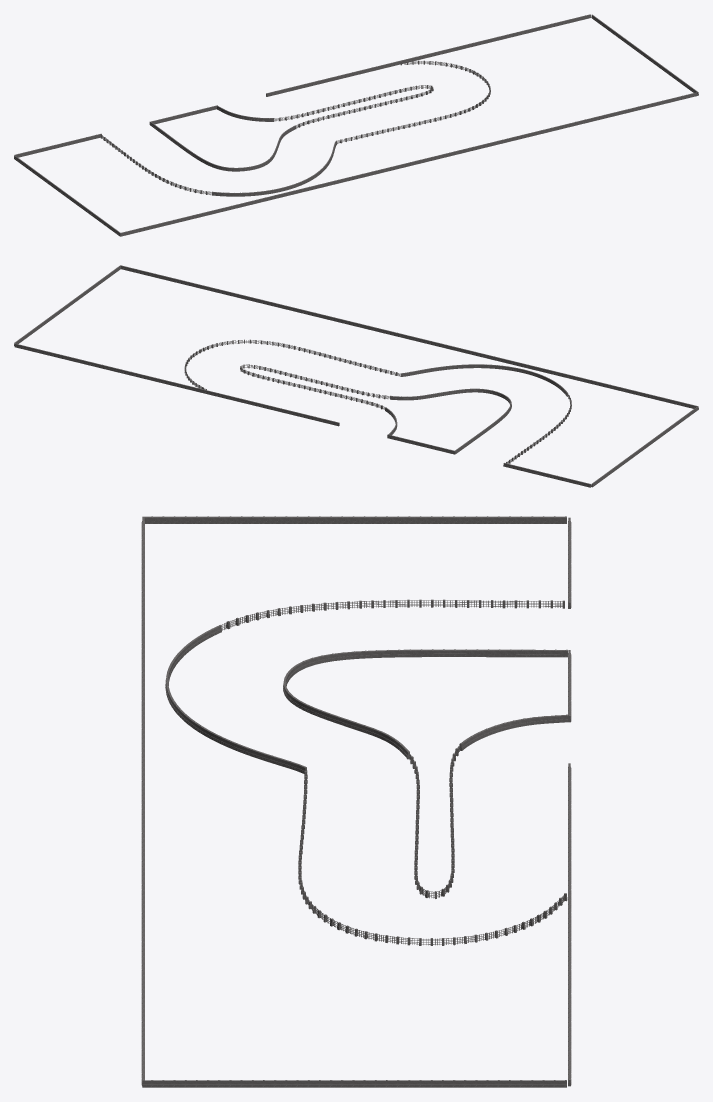
The model's file is Allpagar.fbx.
The picture shows the model from 3 angles, top to bottom: view 1: azimuth 30°, elevation 25°; view 2: azimuth 150°, elevation 25°; view 3: azimuth 270°, elevation 25°; orthographic projection. The views are drawn at different scales.
Visible parts, largest first — view 1: Pagar2.004, Pagar1.002, Pagar2.003, Pagar1.001, Pagar2.001, Pagar2, Pagar1; view 2: Pagar2.004, Pagar1.002, Pagar2.003, Pagar1.001, Pagar2.001, Pagar2; view 3: Pagar2.003, Pagar2.004, Pagar2.001, Pagar1.001, Pagar1, Pagar2, Pagar1.002, Pagar2.002.
Part boxes in pixels (x1,y1,x2,y2): Pagar2.004: [14, 14, 697, 236]; Pagar1.002: [273, 85, 433, 129]; Pagar2.003: [14, 14, 698, 236]; Pagar1.001: [337, 60, 490, 143]; Pagar2.001: [150, 122, 295, 171]; Pagar2: [211, 140, 337, 196]; Pagar1: [100, 135, 211, 194]; Pagar2.004: [14, 265, 697, 487]; Pagar1.002: [240, 364, 390, 409]; Pagar2.003: [14, 265, 698, 487]; Pagar1.001: [184, 339, 400, 390]; Pagar2.001: [391, 388, 511, 453]; Pagar2: [400, 364, 568, 396]; Pagar2.003: [142, 516, 566, 1087]; Pagar2.004: [141, 517, 571, 1086]; Pagar2.001: [283, 649, 567, 757]; Pagar1.001: [298, 768, 567, 945]; Pagar1: [221, 599, 564, 630]; Pagar2: [165, 625, 307, 773]; Pagar1.002: [406, 743, 462, 898]; Pagar2.002: [459, 714, 568, 750].
Size of the model in its own units: 32749 by 198 by 10523.
